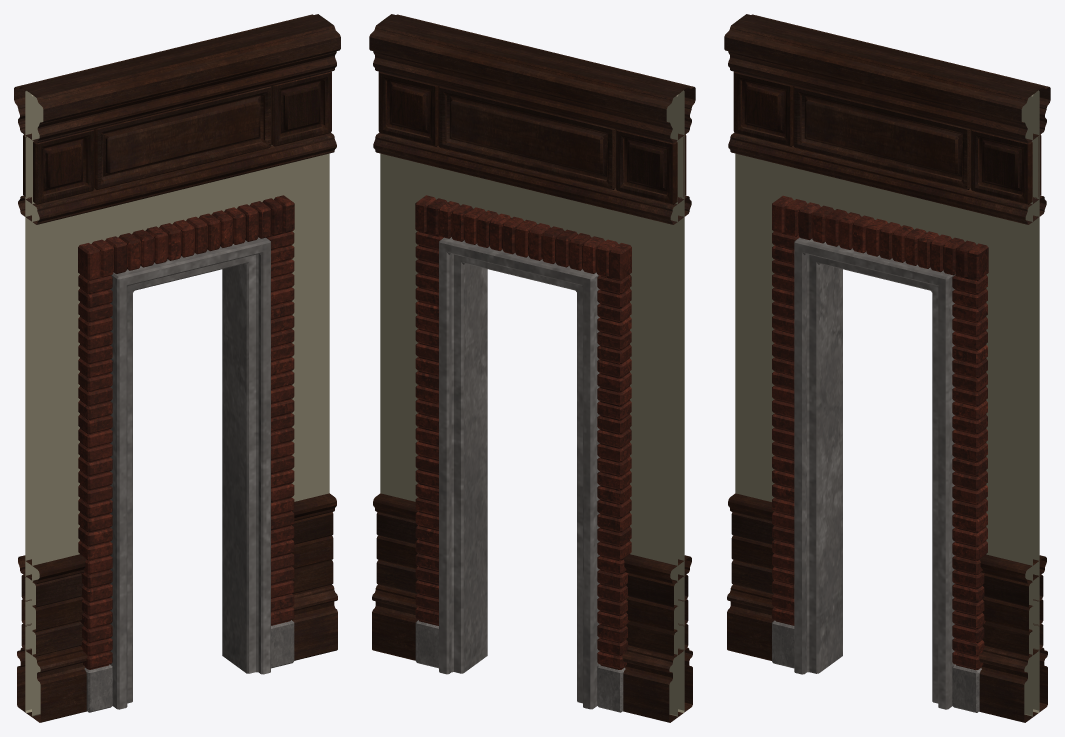
The model's file is SK6 DOOR 1 INT.fbx.
The picture shows the model from 3 angles, left to right: view 1: azimuth 30°, elevation 25°; view 2: azimuth 150°, elevation 25°; view 3: azimuth 330°, elevation 25°; orthographic projection.
Parts seen in each view (by area): view 1: SK6 DOOR 1 INT; view 2: SK6 DOOR 1 INT; view 3: SK6 DOOR 1 INT.
Boxes of the visible parts, bbox=[...] form: SK6 DOOR 1 INT: bbox=[14, 14, 340, 722]; SK6 DOOR 1 INT: bbox=[369, 14, 695, 722]; SK6 DOOR 1 INT: bbox=[724, 14, 1050, 722].
Bounding box in the file's own units: 200 × 400 × 40.15.
